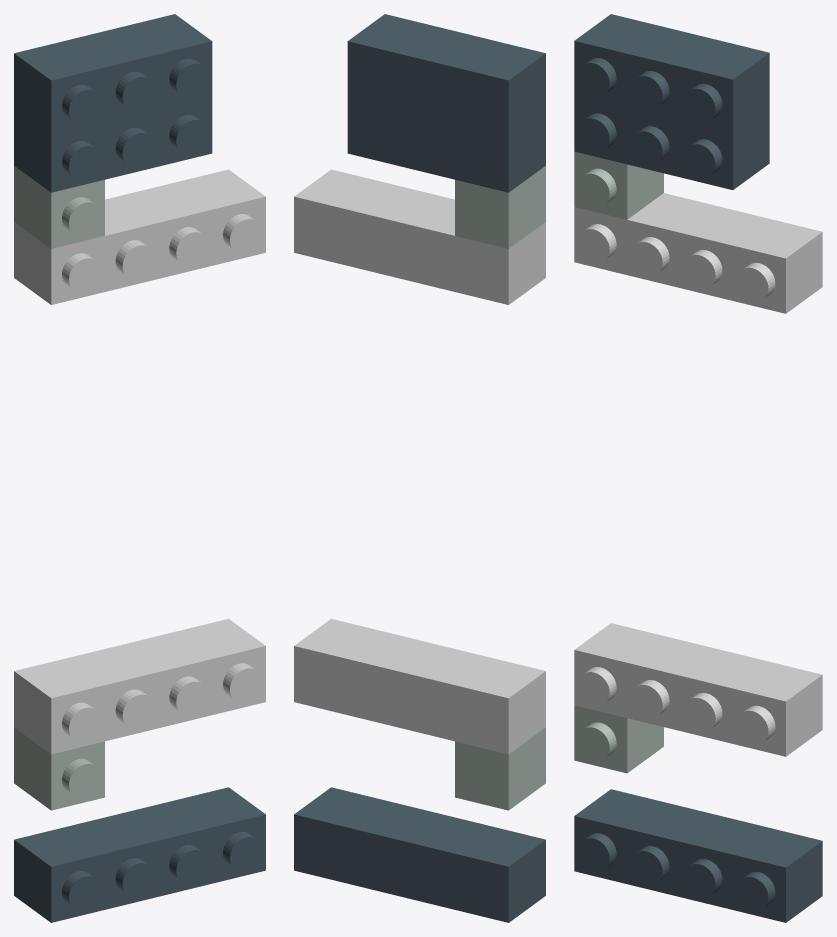
File: current.glb
3 renders of one model, left to right at view 1: azimuth 30°, elevation 25°; view 2: azimuth 150°, elevation 25°; view 3: azimuth 330°, elevation 25°, orthographic.
Visible parts, largest first — view 1: world; view 2: world; view 3: world.
Part boxes in pixels (x1,y1,x2,y2): world: (14, 14, 265, 922); world: (294, 14, 545, 922); world: (574, 14, 822, 922).
Size of the model in its own units: 32 by 120 by 11.4.
